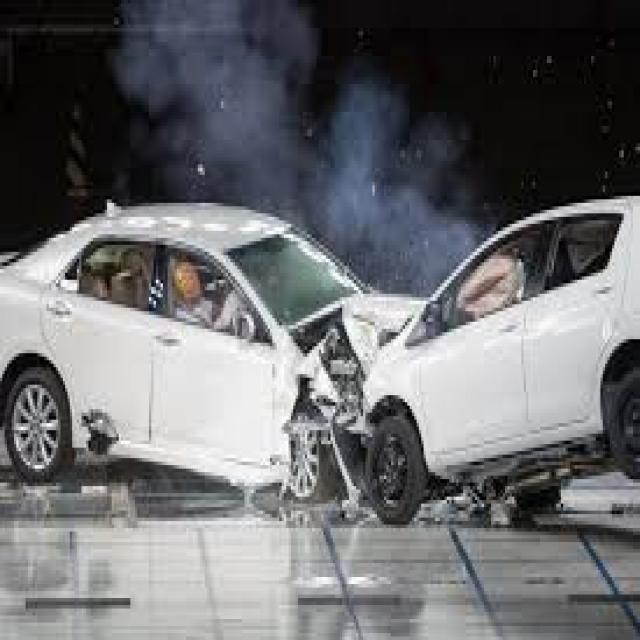accident: (5, 144, 622, 556)
